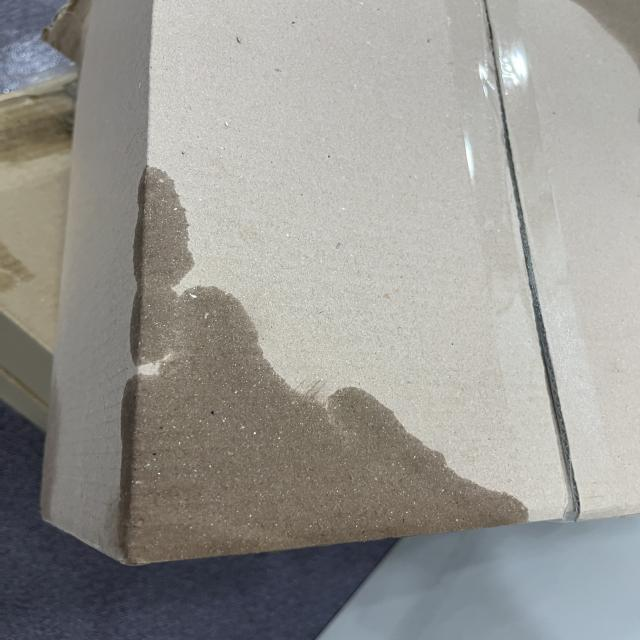wet: (123, 169, 526, 563)
